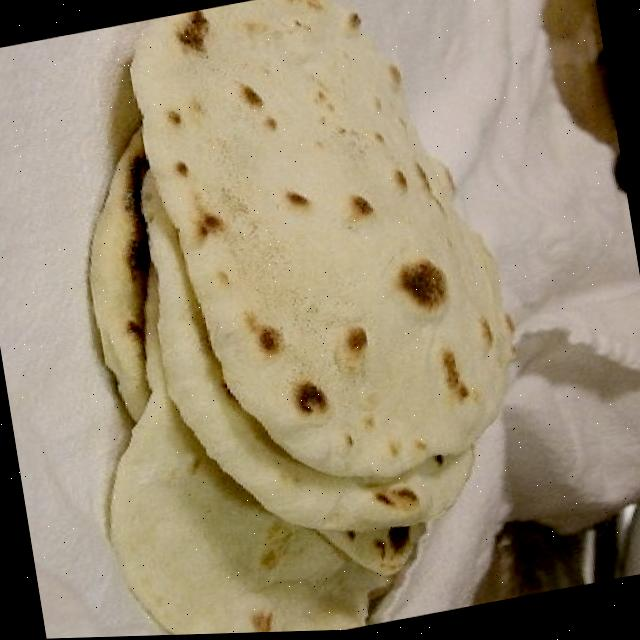面包点心: (40, 0, 630, 639)
